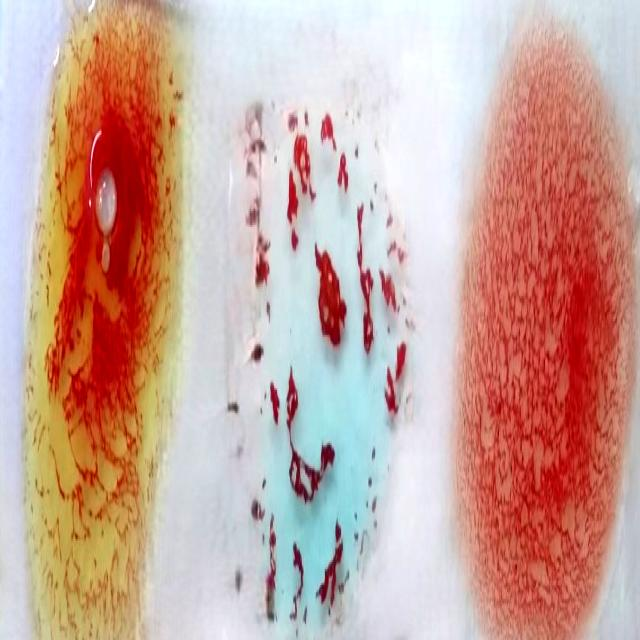A: (233, 97, 420, 640)
B: (30, 12, 170, 640)
D: (470, 48, 621, 640)
